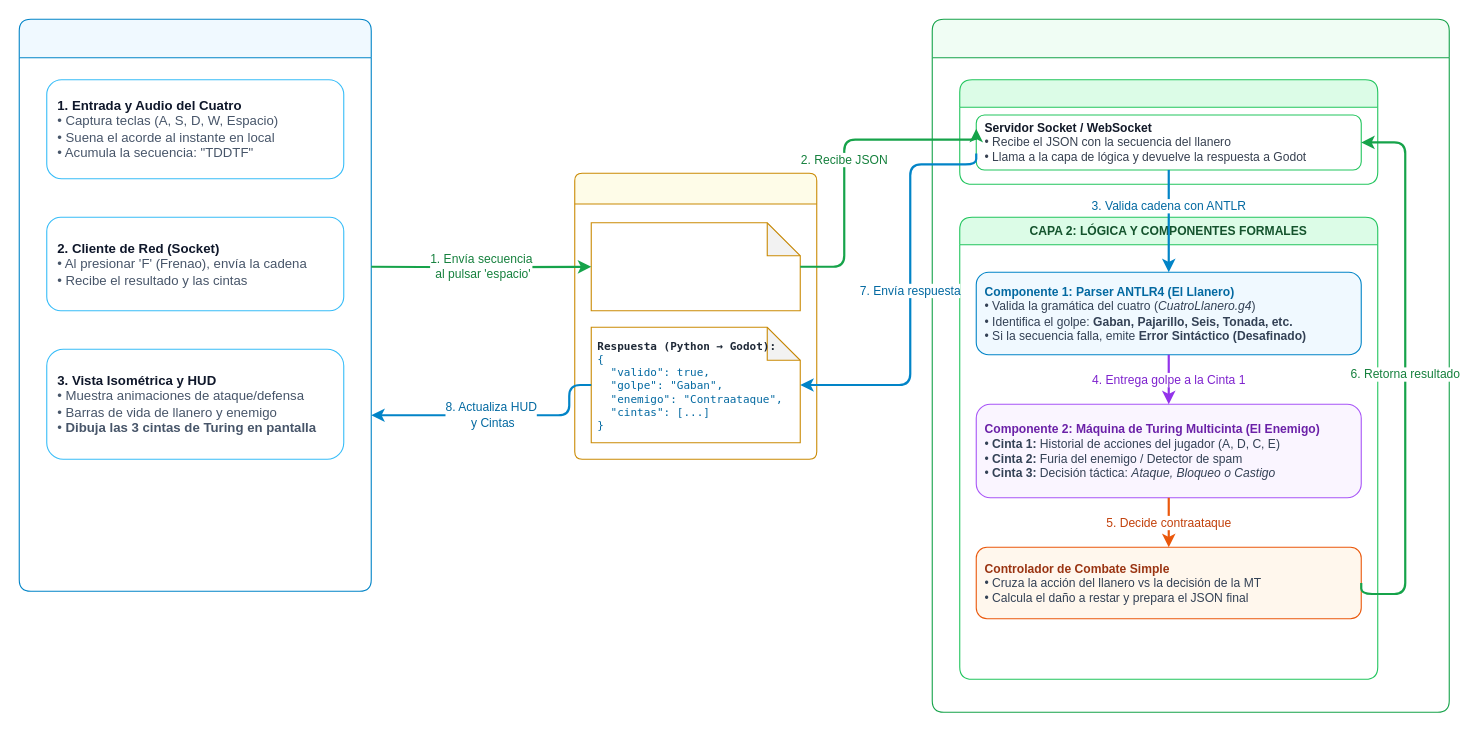
This 1480x732 diagram has some shape labels left out. Each missing label, with the box of its shape:
CANAL LOCAL (Socket / JSON): (574, 172, 817, 459)
CAPA 1: CONECTIVIDAD / RED: (959, 79, 1378, 184)
CLIENTE: Godot Engine 4 (Interfaz y Juego): (18, 18, 371, 591)
Petición (Godot → Python): { "secuencia": "TDDTF" }: (590, 222, 800, 311)
SERVIDOR: Python 3 (Arquitectura en Capas): (931, 18, 1449, 712)
